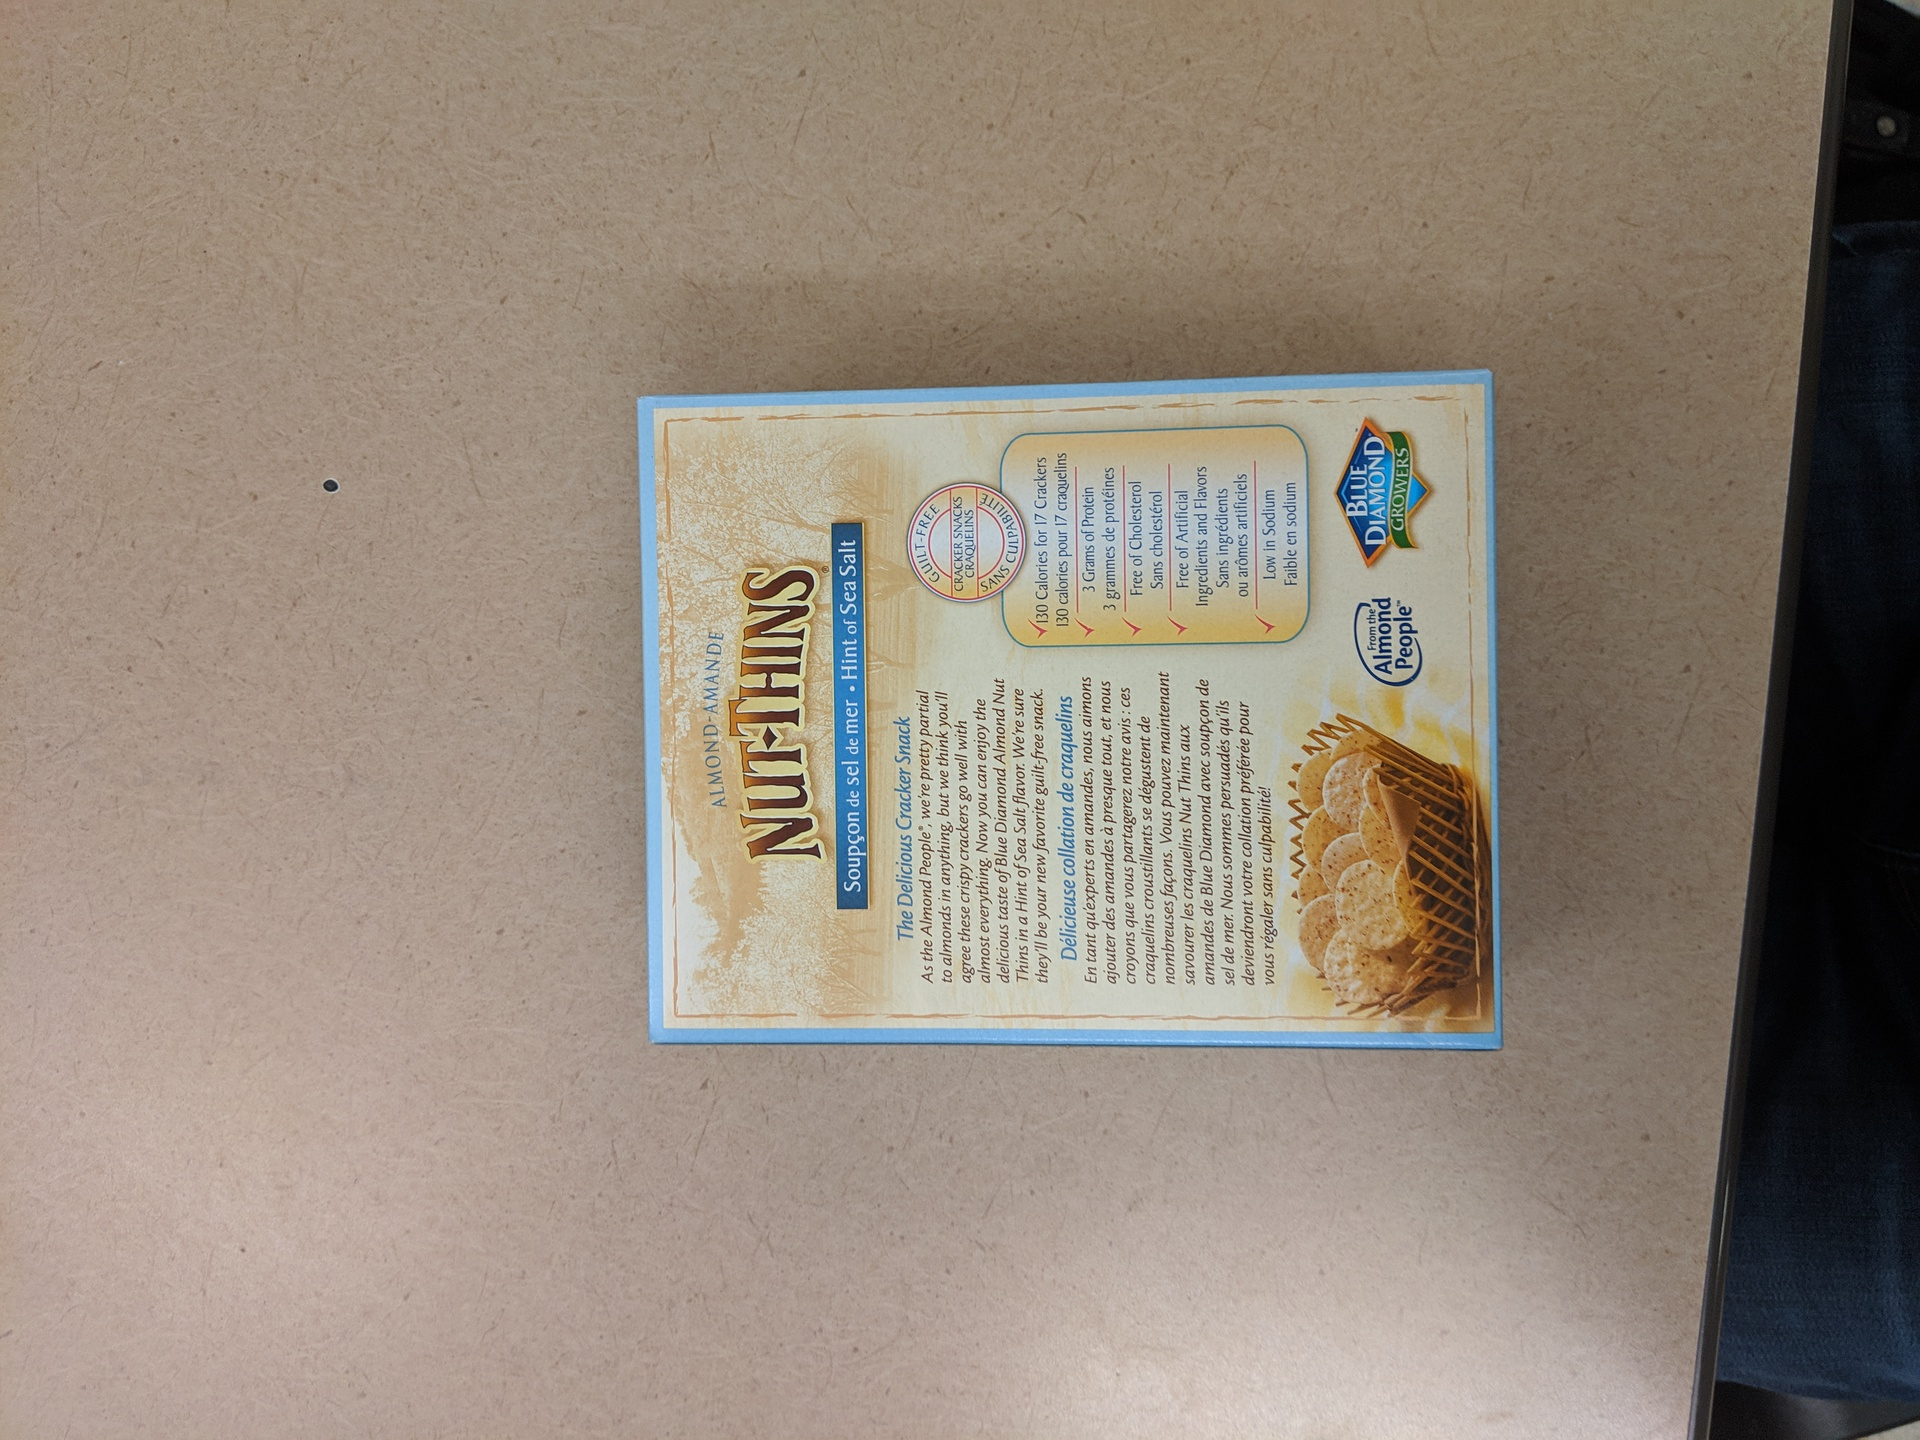blue_diamond_nut_thins_almond_seasalt: (626, 380, 1516, 1060)
